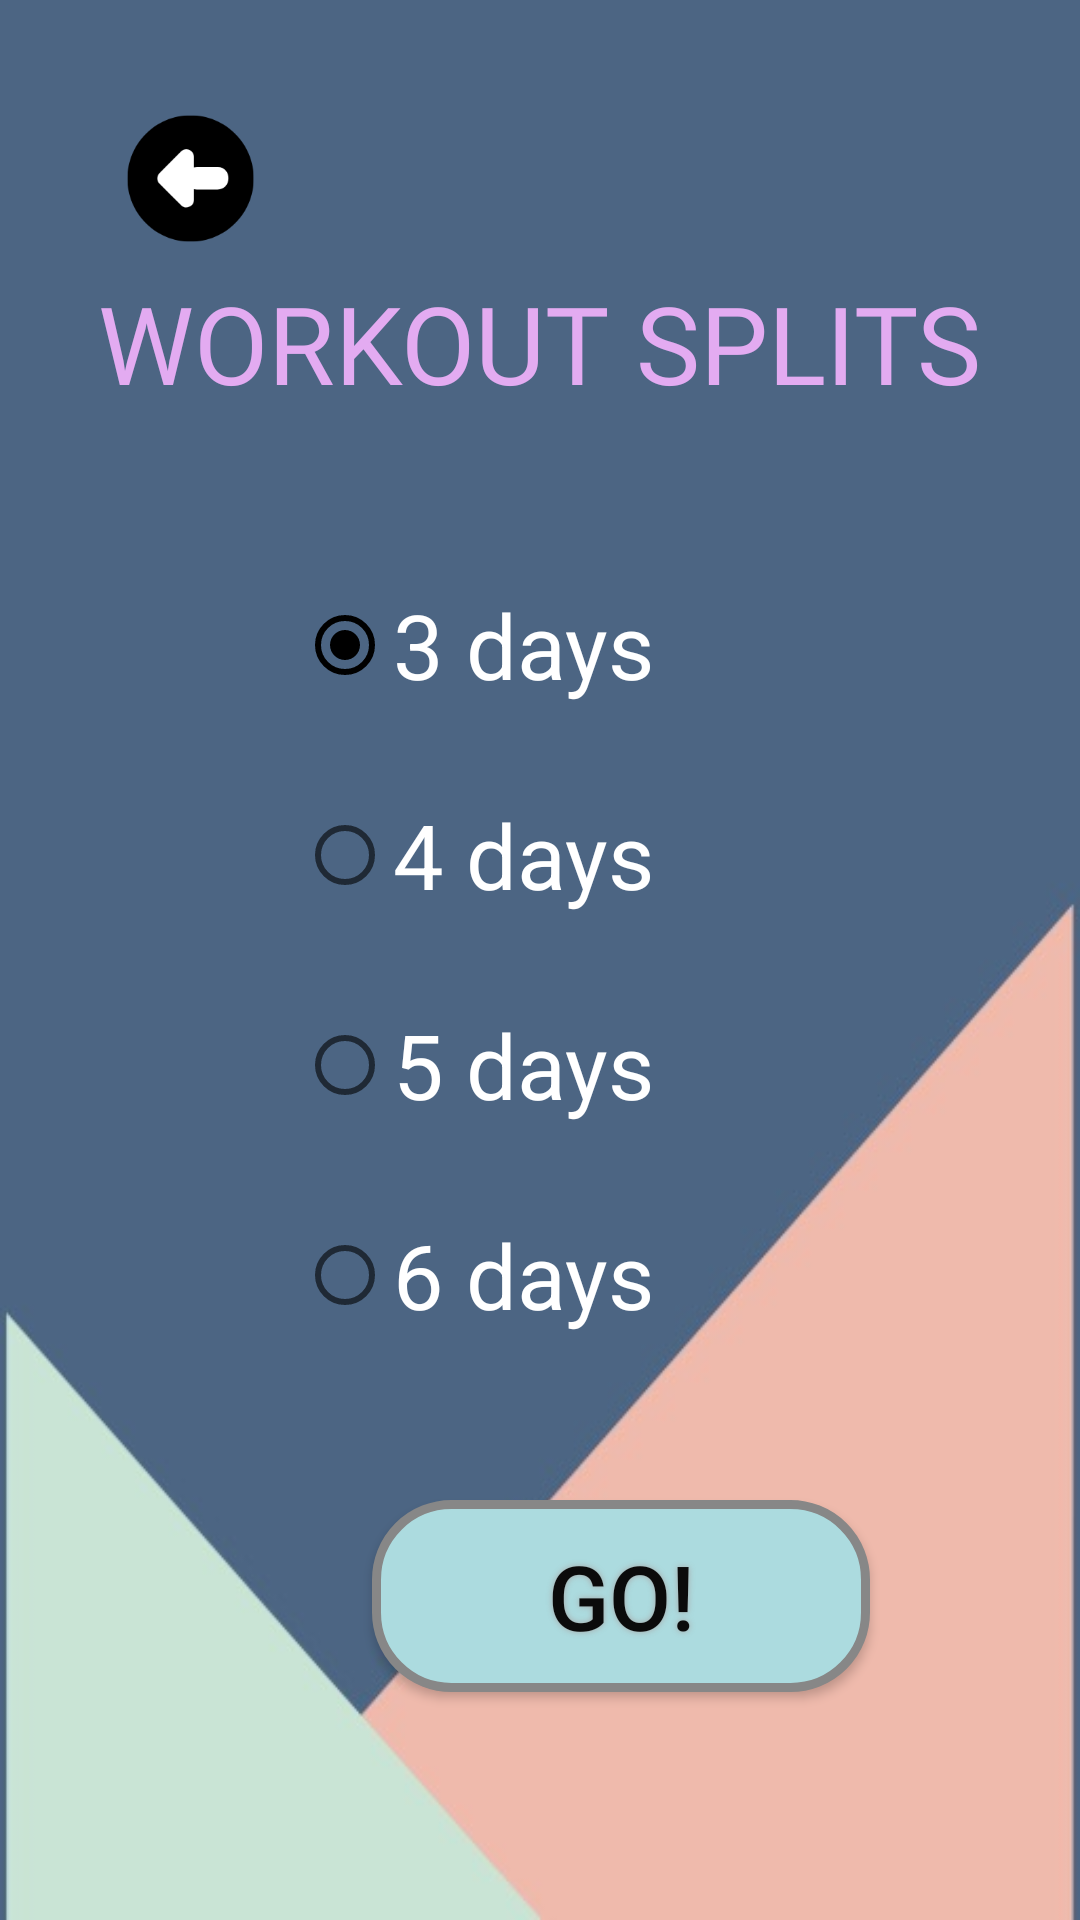

Icon bounding boxes for this 1080*1920 phone screenshot, format (x1, y1, x2, y2):
back: (127, 115, 254, 242)
